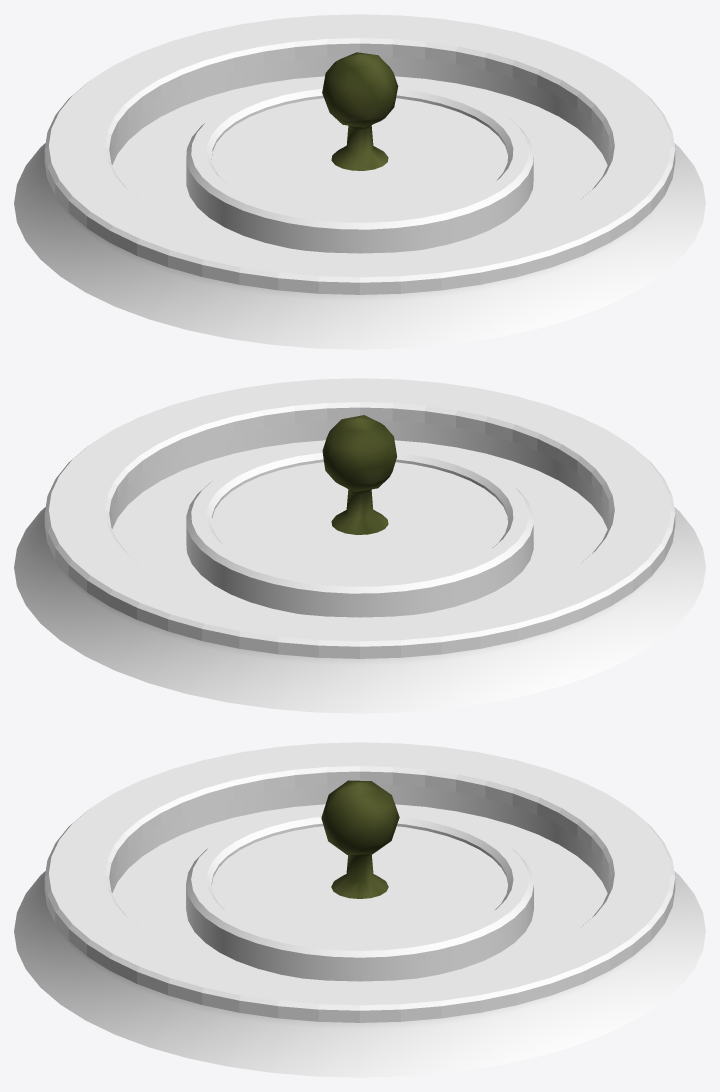
Rendered from Arafount01.glb.
The picture shows the model from 3 angles, top to bottom: view 1: azimuth 30°, elevation 25°; view 2: azimuth 150°, elevation 25°; view 3: azimuth 270°, elevation 25°; orthographic projection.
Visible parts, largest first — view 1: Arafount01; view 2: Arafount01; view 3: Arafount01.
Boxes of the visible parts, <box> form: Arafount01: <box>14,14,705,349</box>; Arafount01: <box>14,378,705,713</box>; Arafount01: <box>14,742,705,1077</box>.
Bounding box in the file's own units: 6.76 × 1.6 × 6.76.
